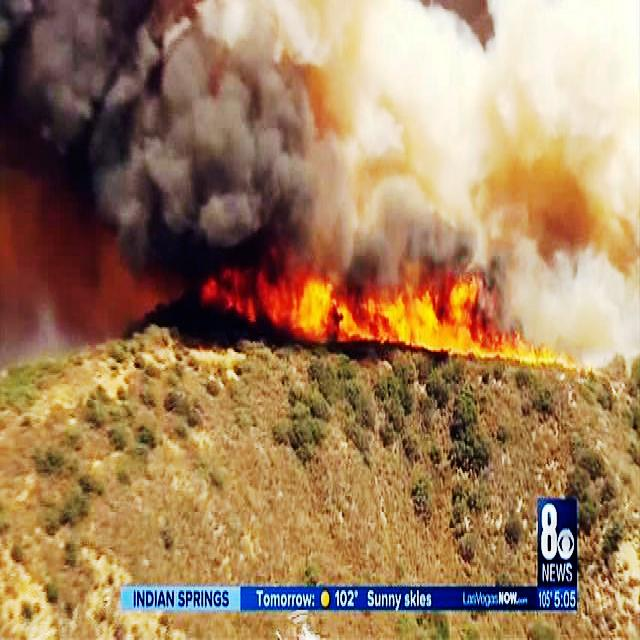api: (198, 251, 592, 375)
asap: (337, 1, 640, 362), (1, 1, 358, 307)
